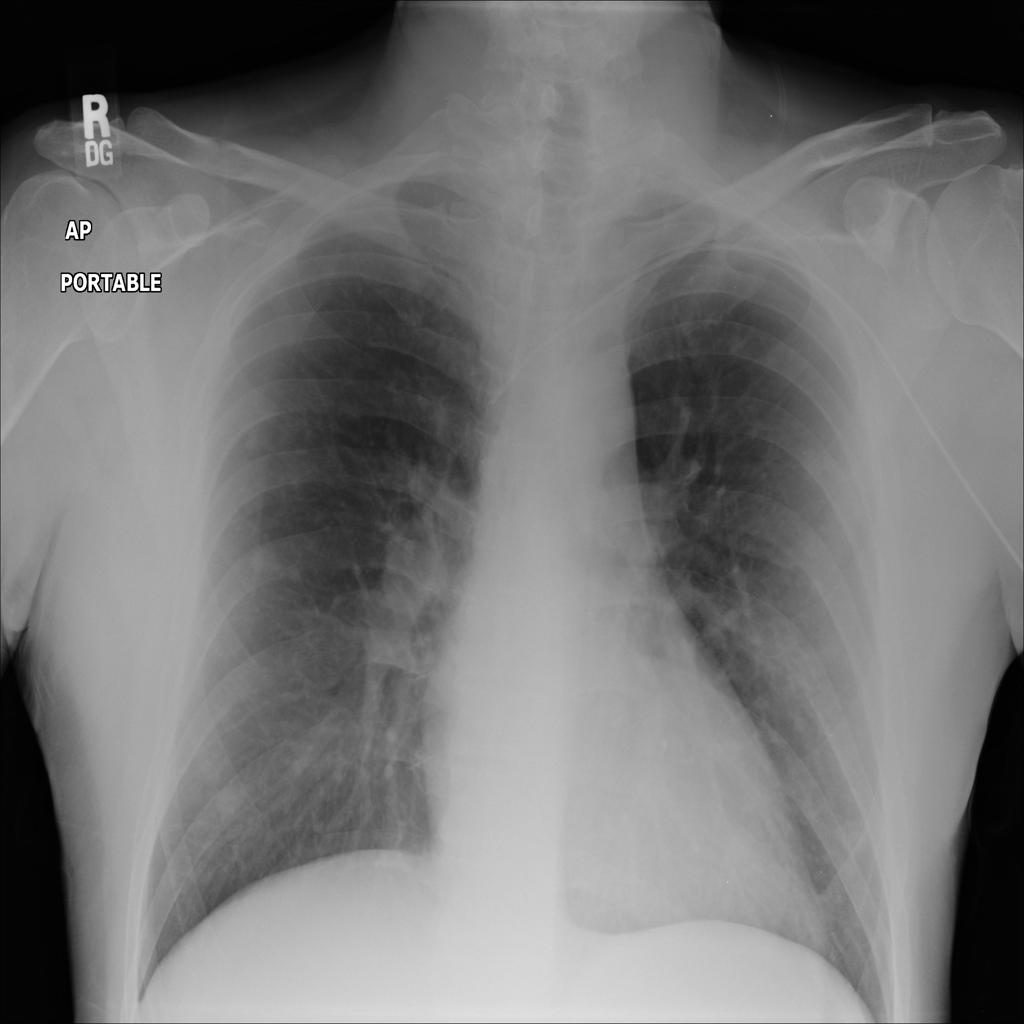nodule: (235, 526, 308, 599), (220, 402, 289, 472), (204, 768, 252, 823)
